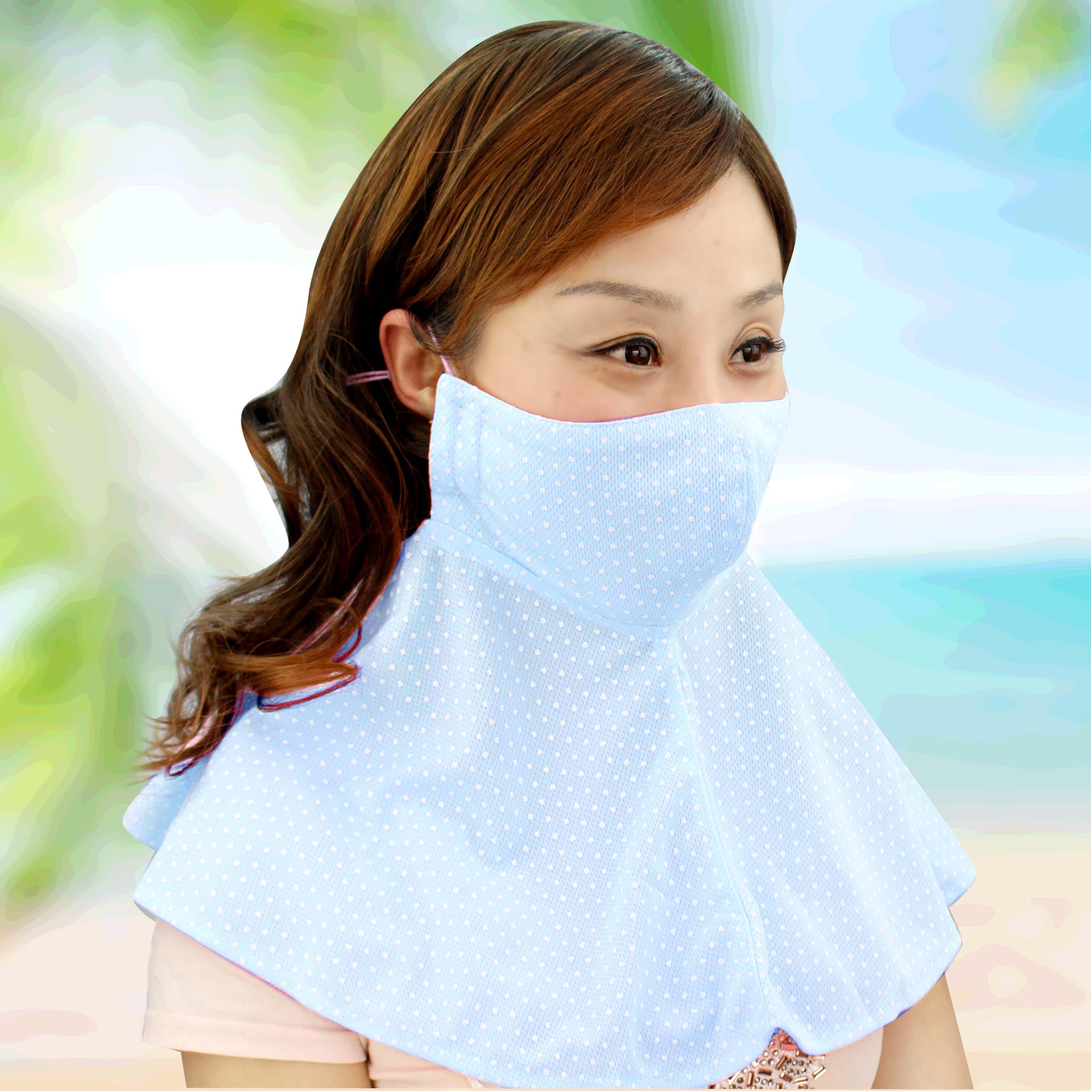OK: (445, 262, 794, 612)
